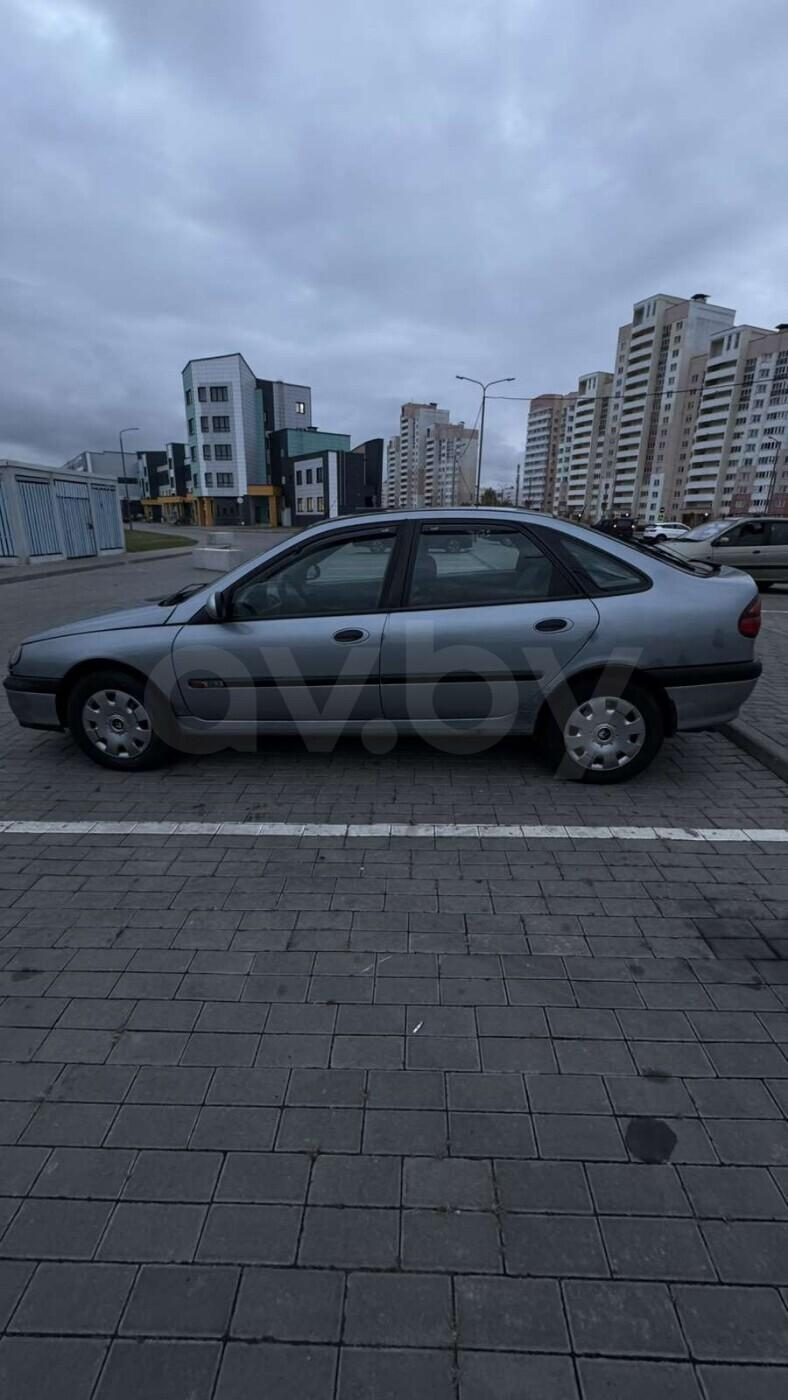Laguna_1998-2001: (4, 498, 764, 780)
